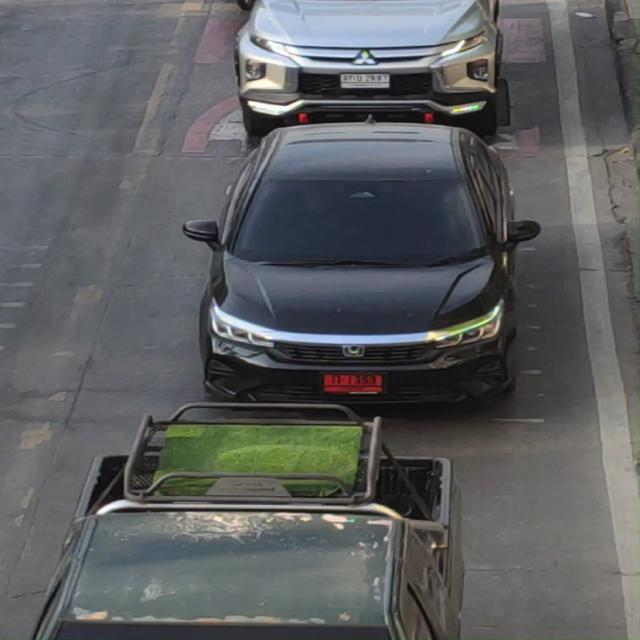car: (165, 115, 559, 417), (69, 401, 463, 640), (221, 0, 551, 136)
